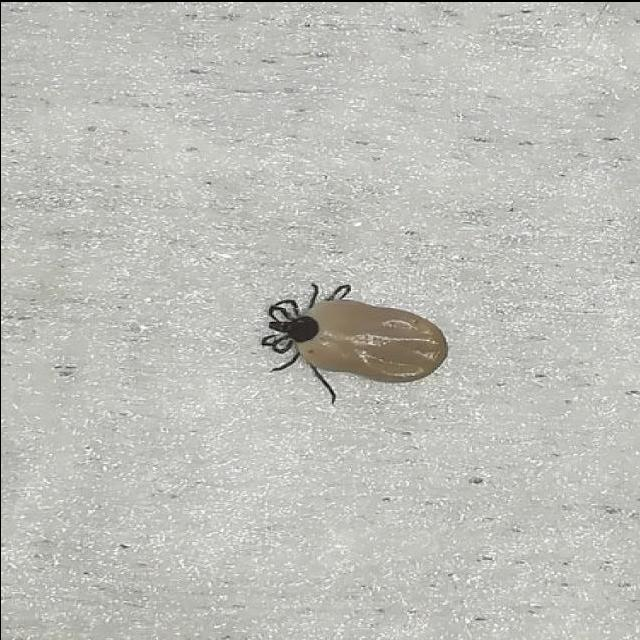Ixodes Ricinus-F-Fed: (258, 283, 447, 399)
